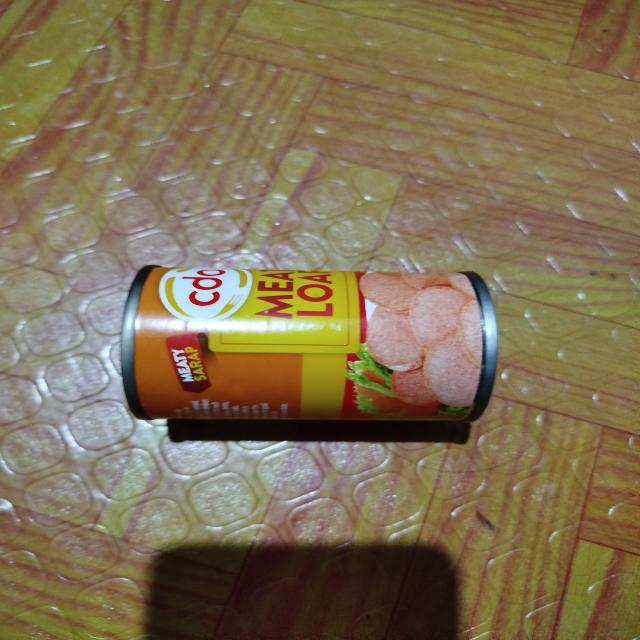metal: (115, 253, 516, 444)
